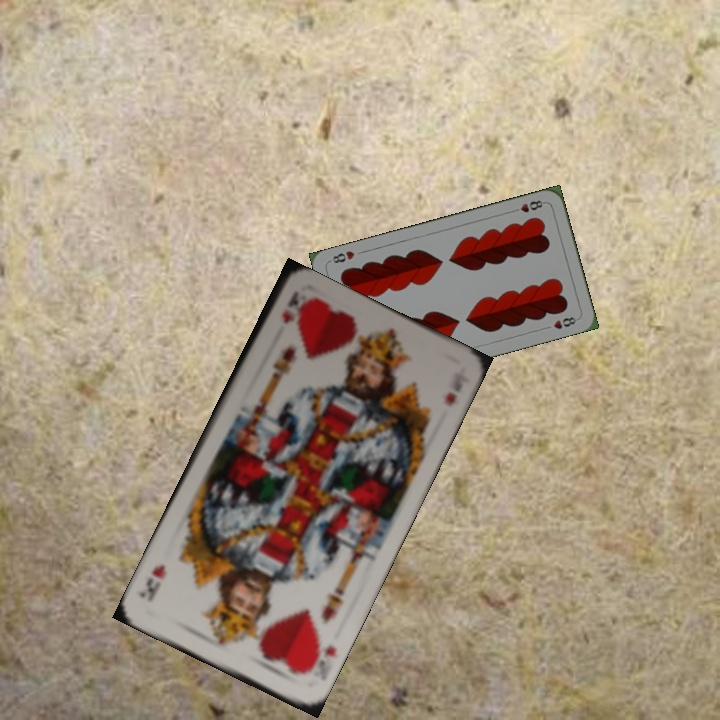H8: (508, 196, 548, 215)
HK: (299, 638, 340, 678), (278, 288, 302, 327)
